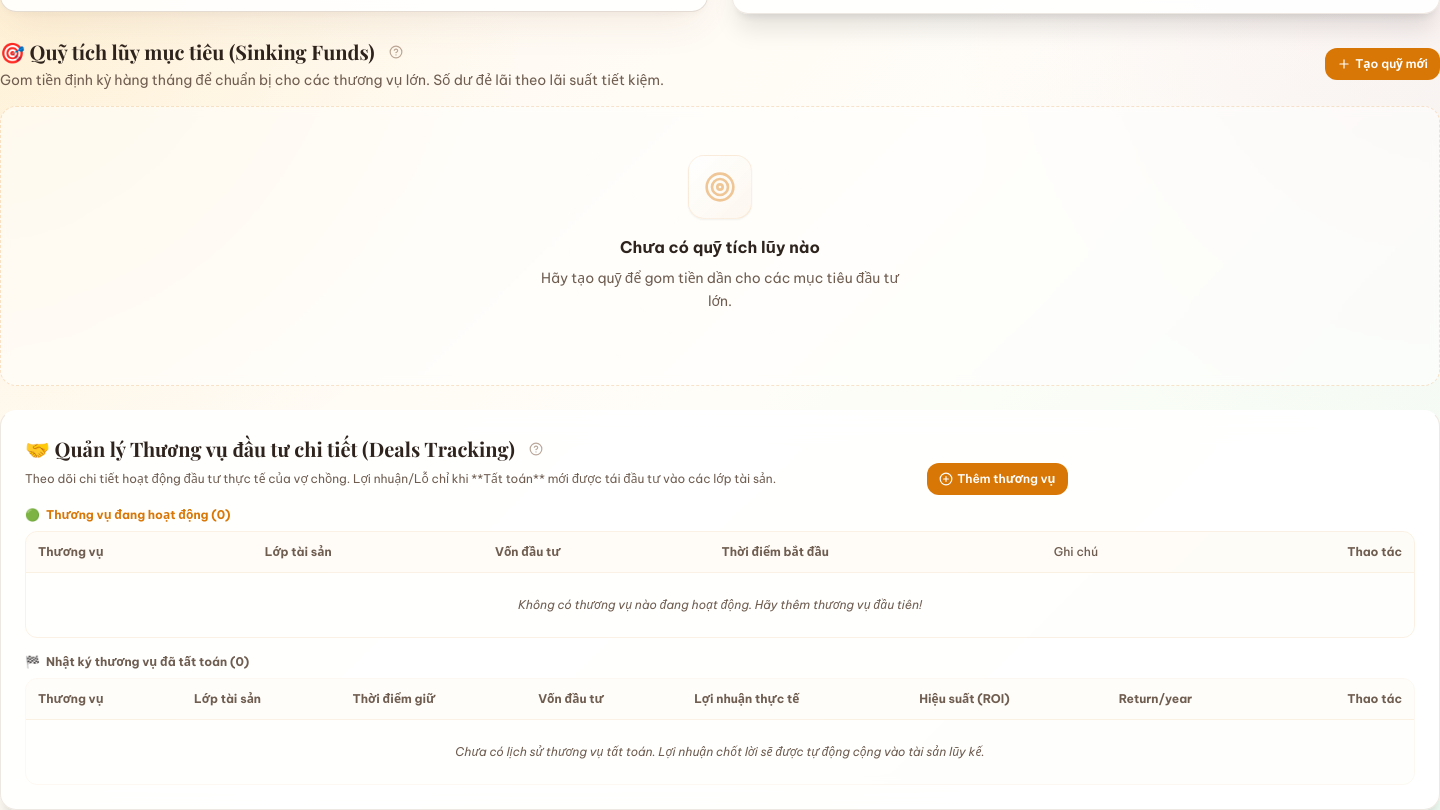
Test case: Portfolio Component › shows quantity and purchase price for non-real-estate assets and auto-calculates capital
(page scrolled)
Step 1. Click the button "Thêm thương vụ" → coordinates (997, 478), box left=927, top=462, right=1068, bottom=494
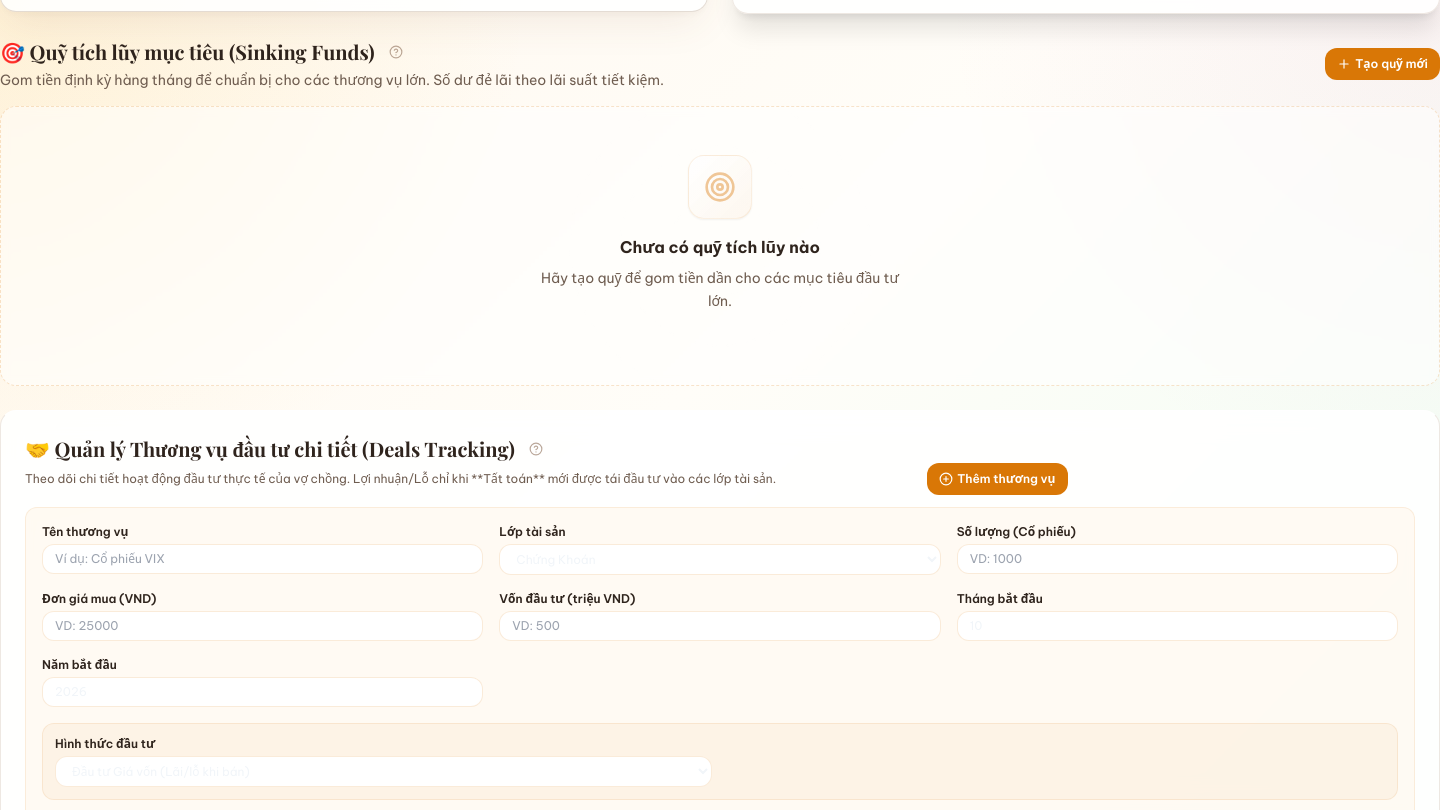
Expected: the text "Số lượng (Cổ phiếu)" is shown, left=957, top=524, right=1076, bottom=538
Expected: the text "Đơn giá mua (VND)" is shown, left=42, top=590, right=156, bottom=606
Note: Input quantity and price
Step 2. Type "1000" into the number field with placeholder "VD: 1000" → coordinates (1177, 558), box left=957, top=544, right=1398, bottom=574
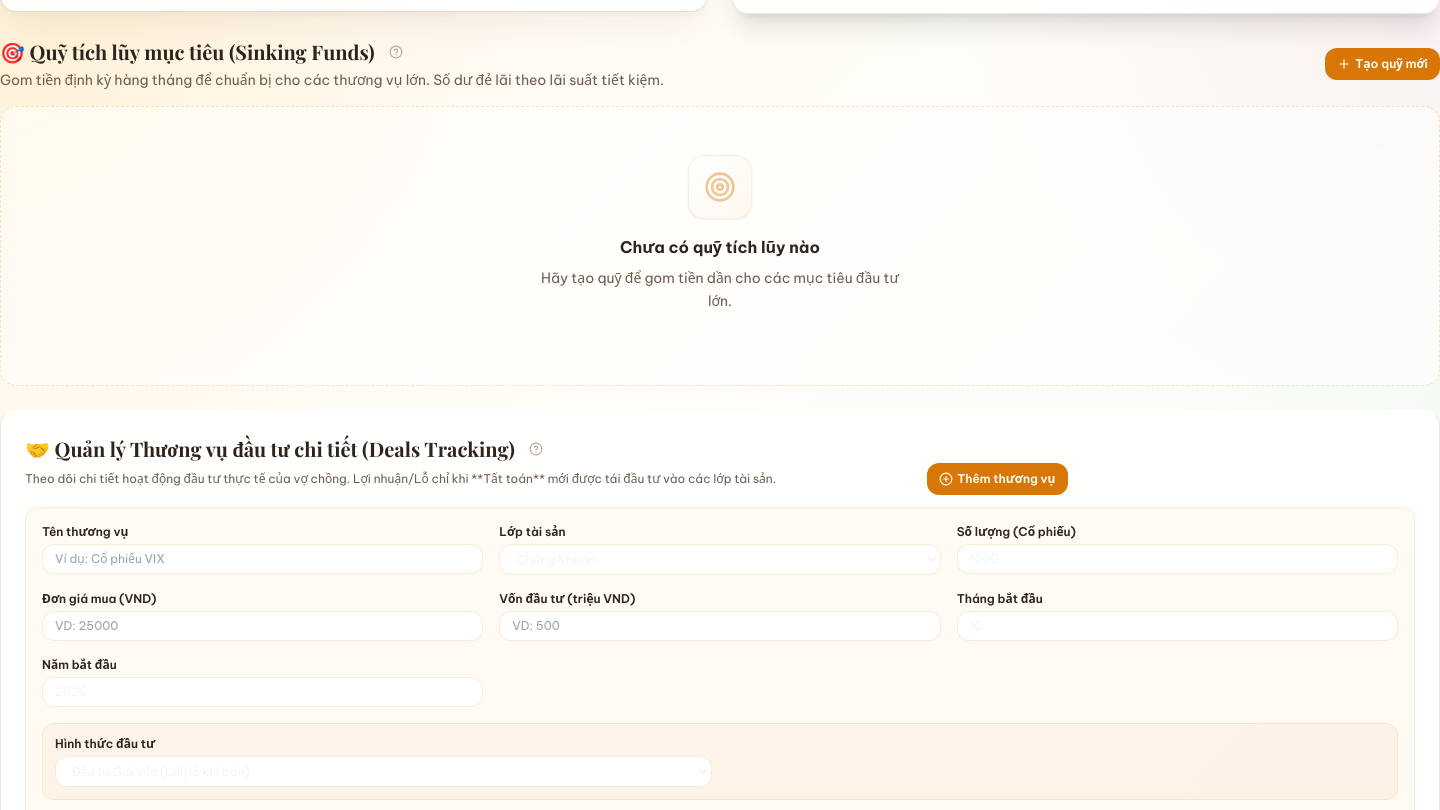
Step 3. Type "15000" into the number field with placeholder "VD: 25000" → coordinates (263, 626), box left=42, top=610, right=483, bottom=640
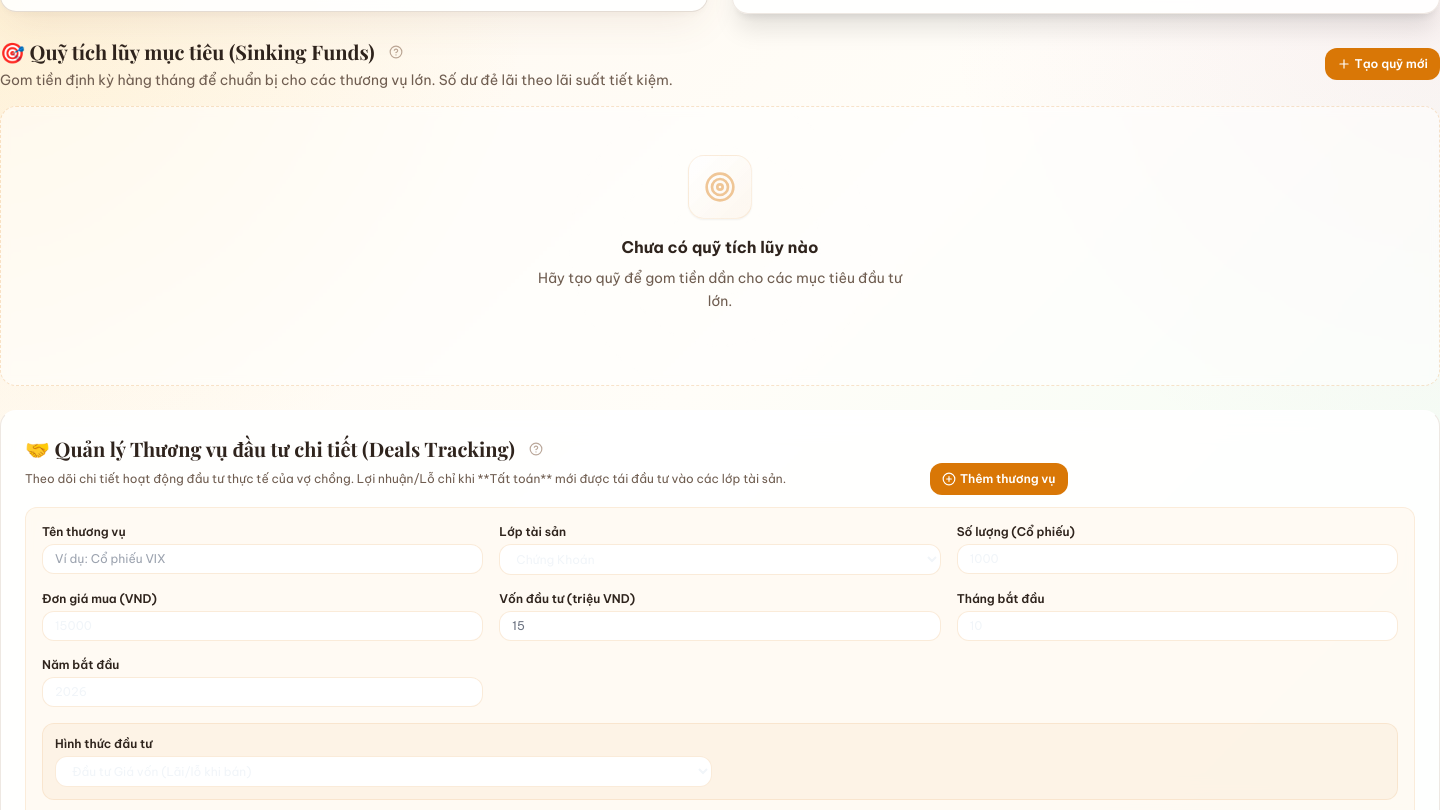
Expected: the number field with placeholder "VD: 500" below "Vốn đầu tư (triệu VND)" holds "15", left=499, top=610, right=941, bottom=640
